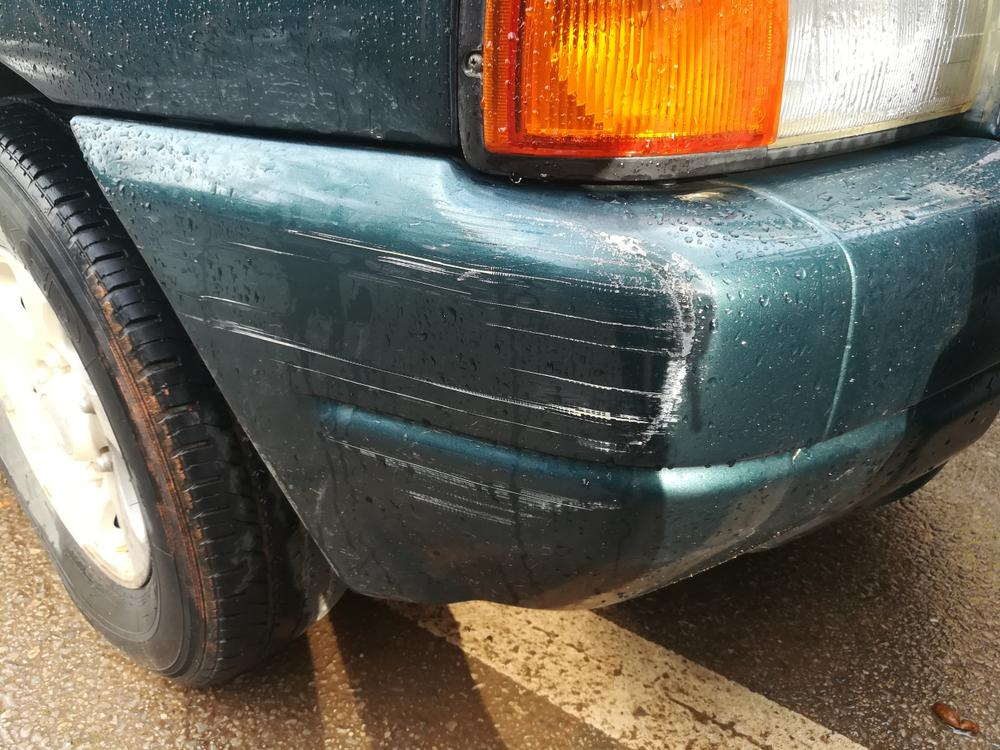scratch: (185, 199, 726, 539)
